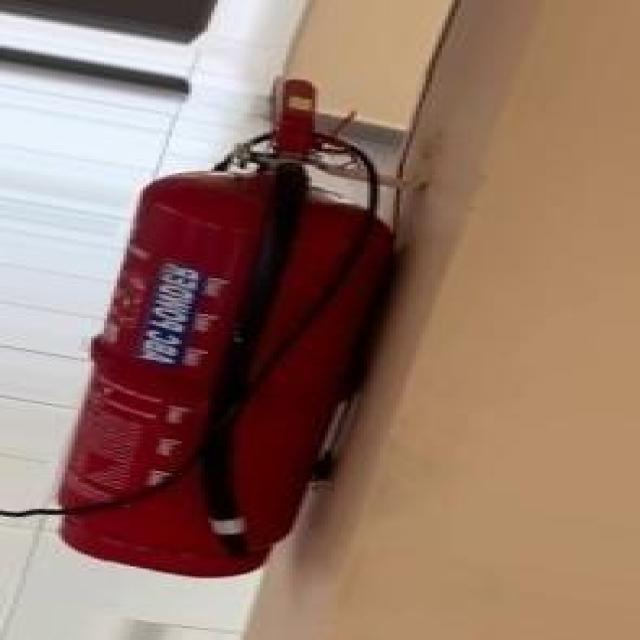fire_extinguisher: (45, 74, 412, 582)
